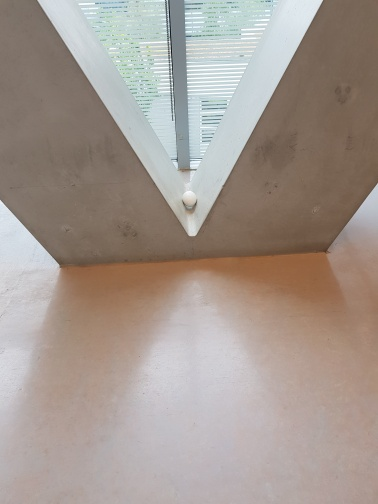egg: (181, 189, 199, 209)
